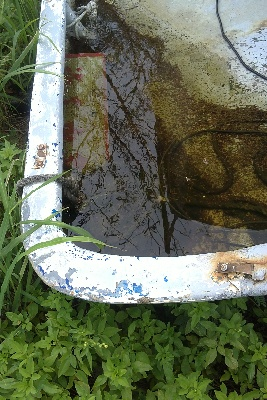tub: (20, 1, 267, 305)
